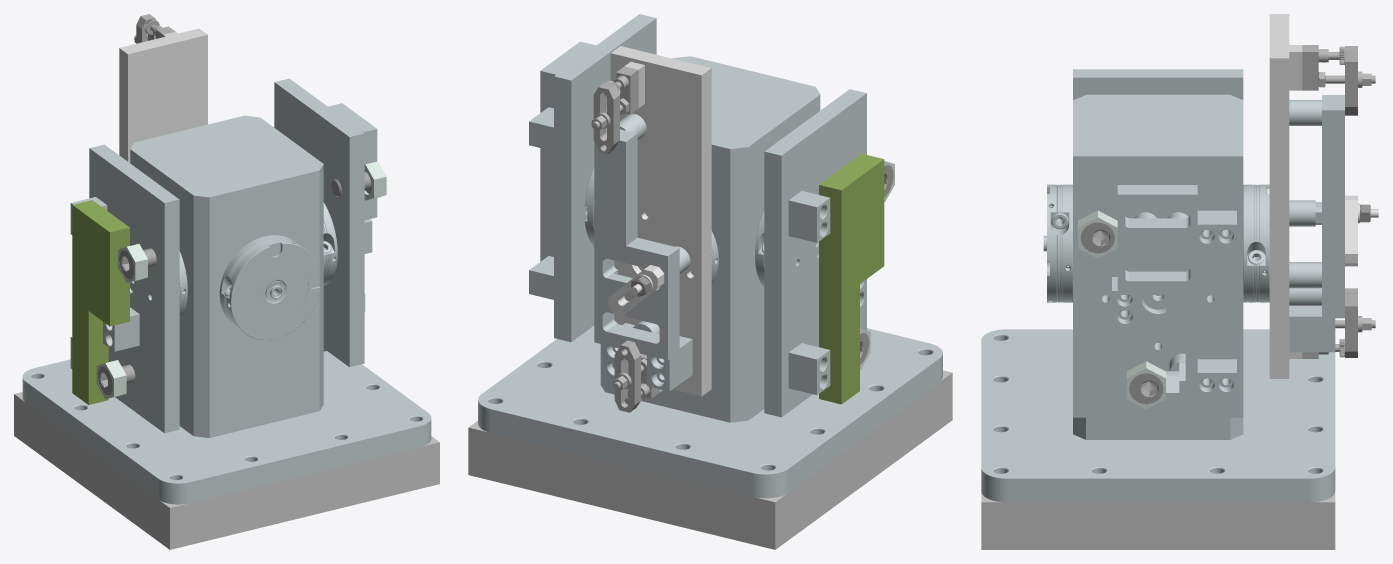
File: 02.PalletAssembly.glb
The picture shows the model from 3 angles, left to right: view 1: azimuth 30°, elevation 25°; view 2: azimuth 150°, elevation 25°; view 3: azimuth 270°, elevation 25°; orthographic projection. The views are drawn at different scales.
Visible parts, largest first — view 1: Body1.005, Body1.004, Body1.018, Body1.054, Body1.042, Body1.007, Body1.001, Body1.043, Body1.010, Body1.002, Body1.016, Body1.014 (+3 smaller); view 2: Body1.005, Body1.004, Body1.042, Body1.018, Body1.054, Body1.019, Body1.007, Body1.043, Body1.008, Body1.009, Body1.020, Body1.028 (+6 smaller); view 3: Body1.005, Body1.054, Body1.004, Body1.043, Body1.042, Body1.019, Body1.018, Body1, Body1.001, Body1.021, Body1.045, Body1.046 (+14 smaller).
Part boxes in pixels (x1,y1,x2,y2): Body1.005: (22, 115, 431, 504); Body1.004: (14, 392, 439, 549); Body1.018: (89, 144, 179, 433); Body1.054: (274, 78, 364, 367); Body1.042: (119, 28, 207, 162); Body1.007: (72, 200, 129, 404); Body1.001: (219, 235, 320, 339); Body1.043: (328, 103, 377, 220); Body1.010: (103, 307, 139, 351); Body1.002: (323, 202, 337, 285); Body1.016: (96, 360, 126, 399); Body1.014: (118, 244, 147, 282); Body1.005: (478, 56, 942, 498); Body1.004: (468, 370, 952, 549); Body1.042: (610, 46, 711, 396); Body1.018: (764, 89, 866, 417); Body1.054: (554, 14, 656, 341); Body1.019: (594, 128, 679, 360); Body1.007: (819, 153, 884, 404); Body1.043: (540, 41, 595, 261); Body1.008: (788, 191, 830, 242); Body1.009: (788, 343, 830, 394); Body1.020: (647, 336, 692, 391); Body1.028: (593, 82, 619, 154); Body1.005: (981, 94, 1335, 502); Body1.054: (1073, 148, 1243, 417); Body1.004: (981, 491, 1335, 549); Body1.043: (1117, 185, 1197, 402); Body1.042: (1269, 14, 1289, 378); Body1.019: (1322, 95, 1344, 318); Body1.018: (1073, 69, 1243, 99); Body1: (1243, 184, 1269, 302); Body1.001: (1043, 184, 1072, 302); Body1.021: (1289, 305, 1335, 352); Body1.045: (1197, 210, 1236, 248); Body1.046: (1197, 359, 1236, 396).
Size of the model in its own units: 0.27 by 0.365 by 0.3032.
